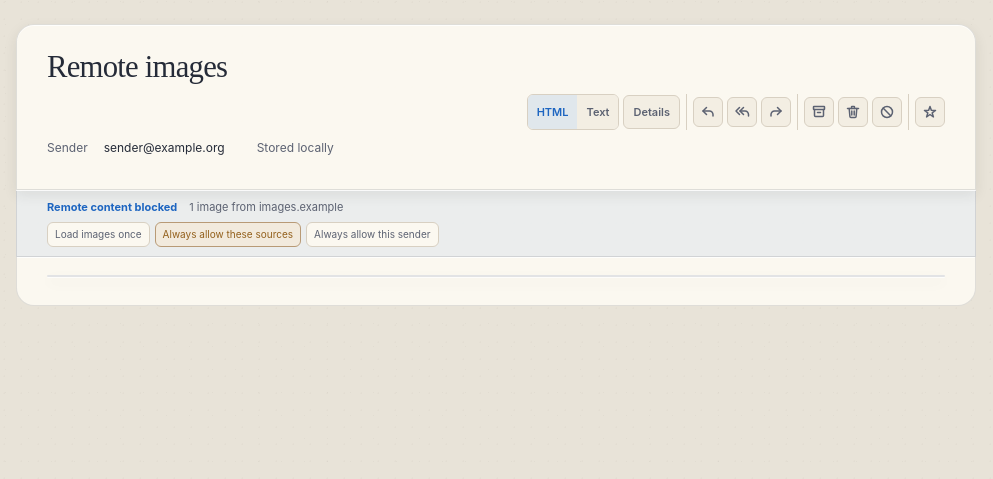
Test: MessageView › offers a one-message remote image override
expect the text "Remote content blocked" is shown: met, box [47,199,177,216]
Click the button "Load images once". click: coordinates (98, 234)
box: [47,222,150,247]
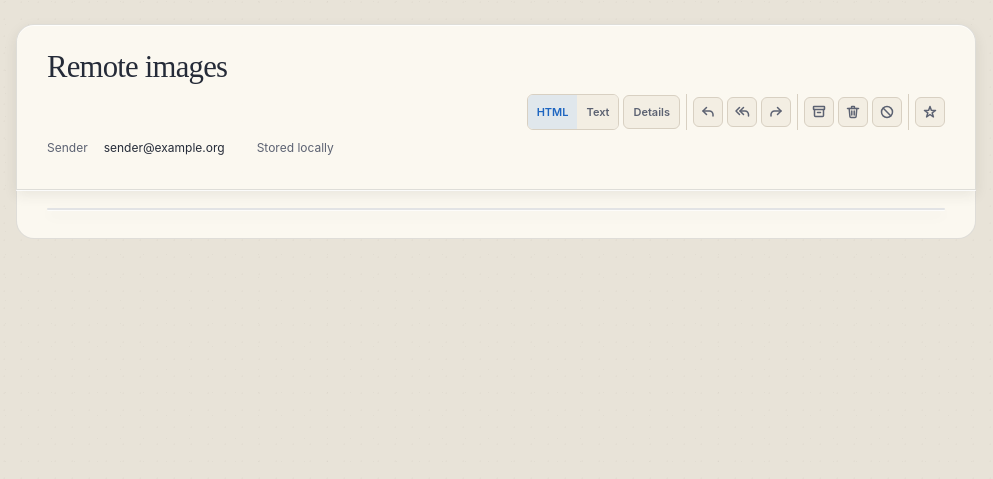
expect the text "Remote content blocked" is gone: met
